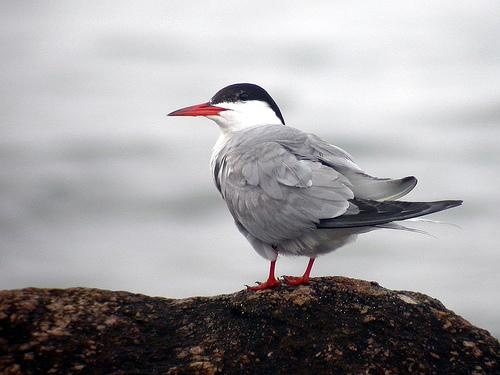bird: (159, 80, 464, 290)
